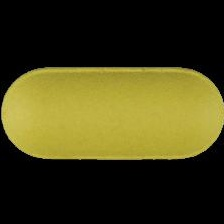50090-0606: (0, 0, 224, 224)
